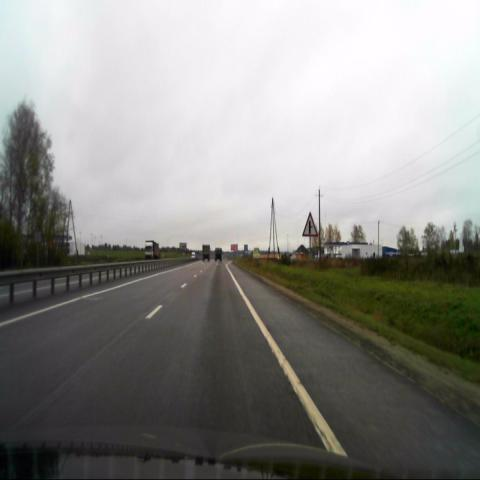2_3_2: (302, 211, 318, 237)
